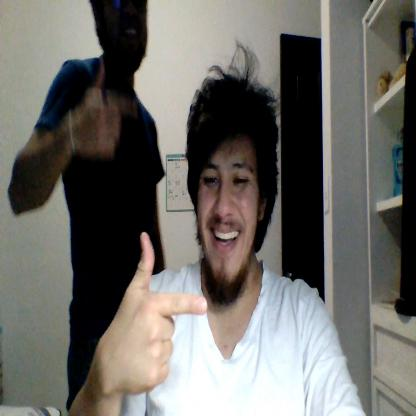G: (107, 231, 206, 394)
